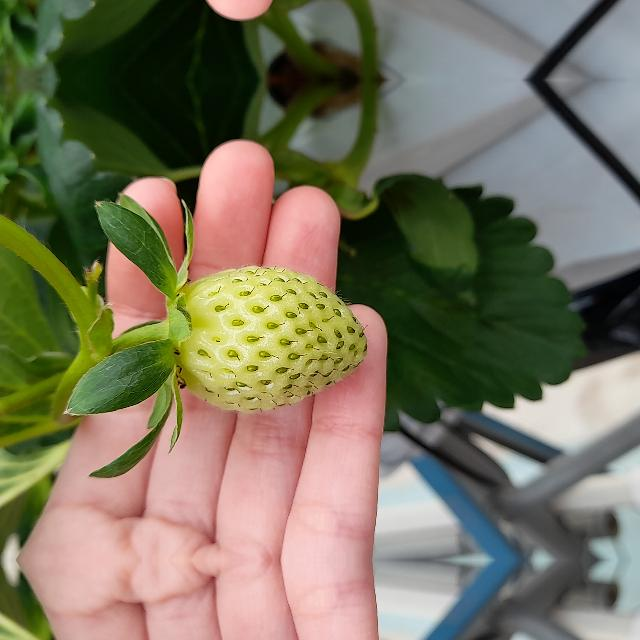Health_25: (173, 266, 367, 412)
